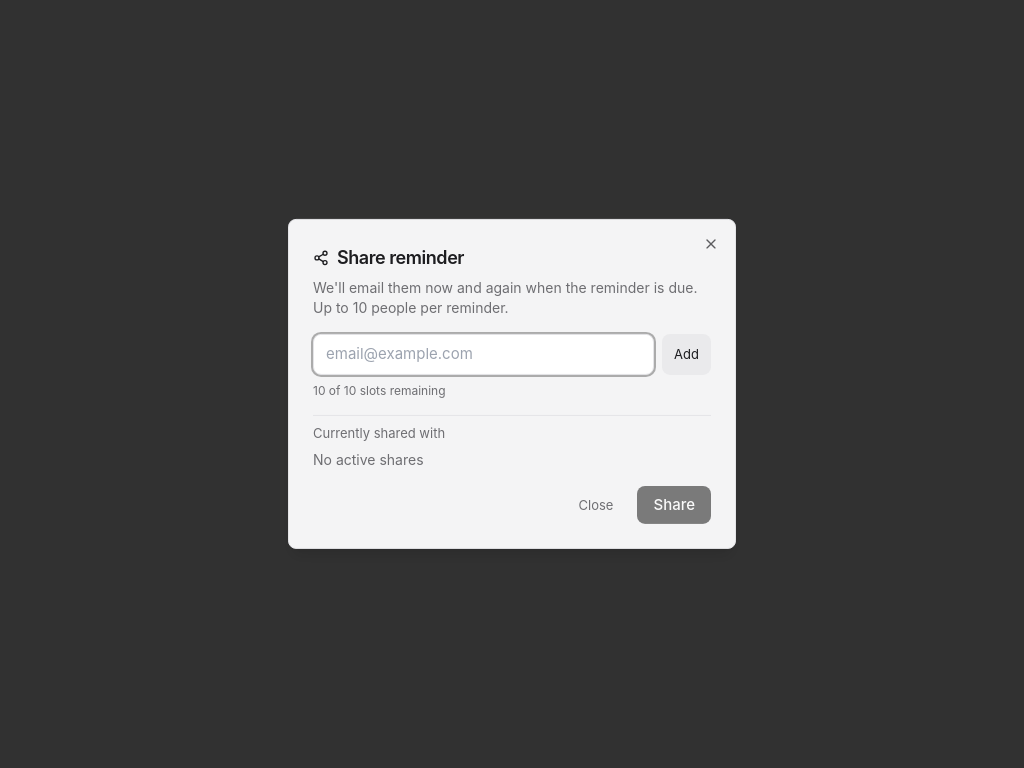
Test: ShareReminderDialog › adds a valid email to the pending chips
Expected: the text "No active shares" is shown, [313, 451, 424, 468]
Type "alice@example.com" into the field with placeholder "email@example.com".
click(484, 354); type("alice@example.com")  # box [313, 334, 654, 374]
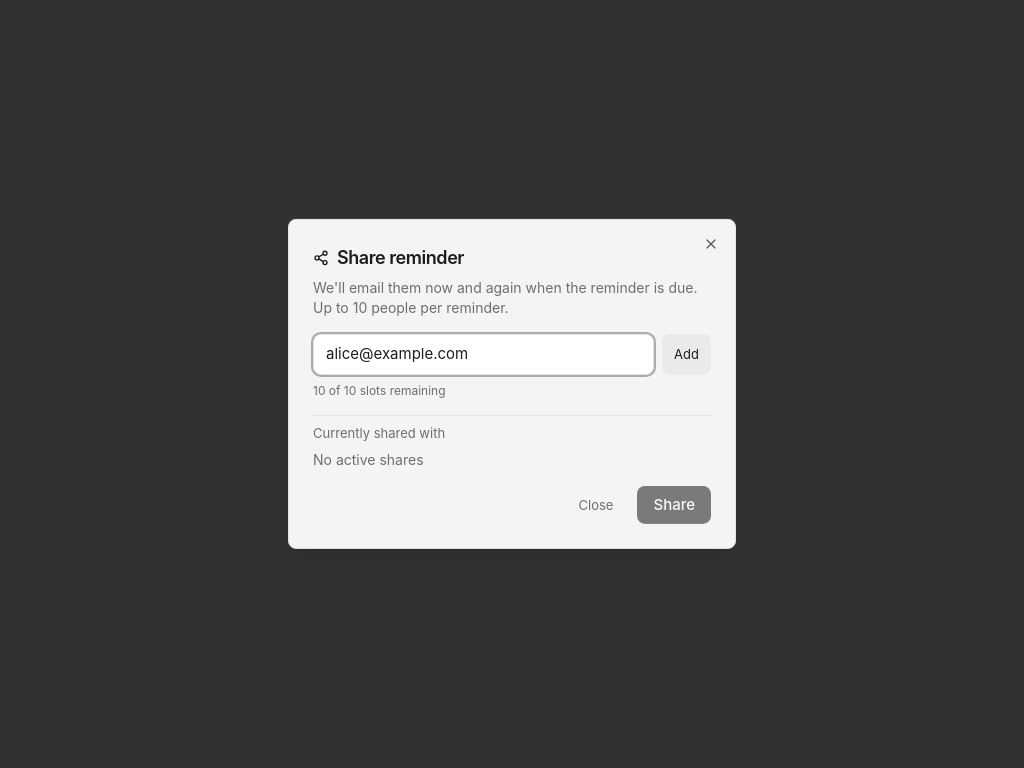
Click the button "Add".
click(687, 354)  # box [662, 334, 711, 374]
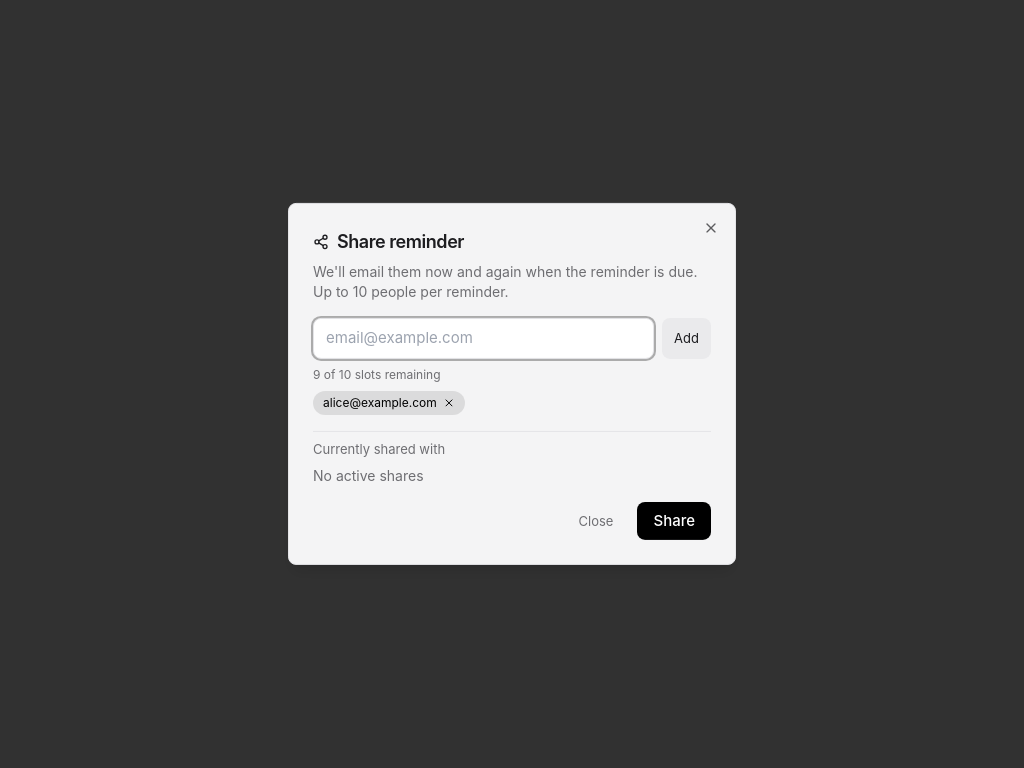
Result: the text "alice@example.com" is shown at [313, 390, 465, 414]
Result: the text "9 of 10 slots remaining" is shown at [313, 366, 440, 381]
